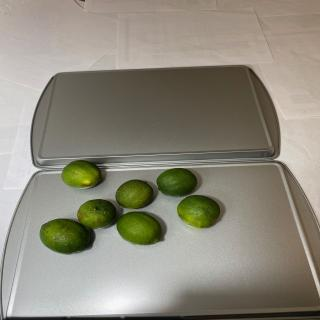Lemon: (40, 218, 90, 255), (116, 211, 162, 246), (177, 195, 220, 228), (156, 168, 198, 197), (115, 179, 154, 209), (77, 199, 116, 229), (61, 160, 101, 189)
